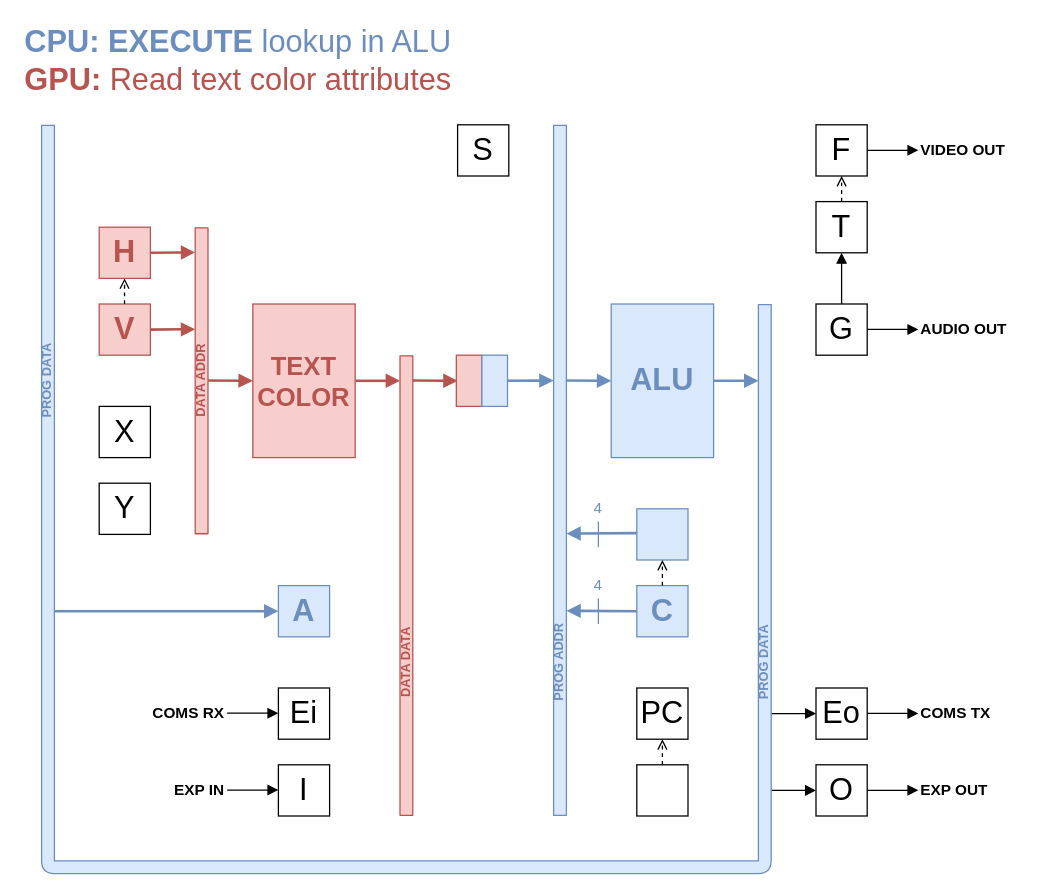
This 1042x896 diagram has some shape labels left out. The shapes that lost their labels are listed below. From the top down, each one's box as (x1, y1, x2, y2) in pixels, then its label:
(636, 508, 688, 560): HL
(636, 764, 688, 816): Pg
